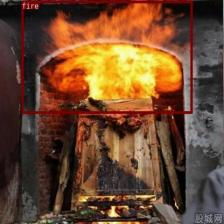fire: (21, 0, 192, 113)
